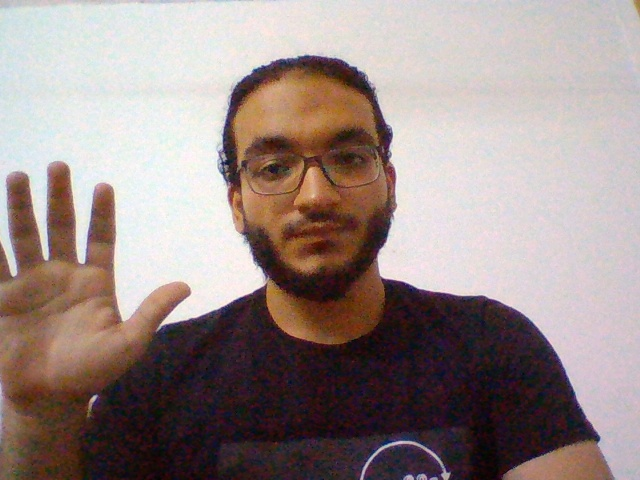Hello: (1, 149, 196, 417)
